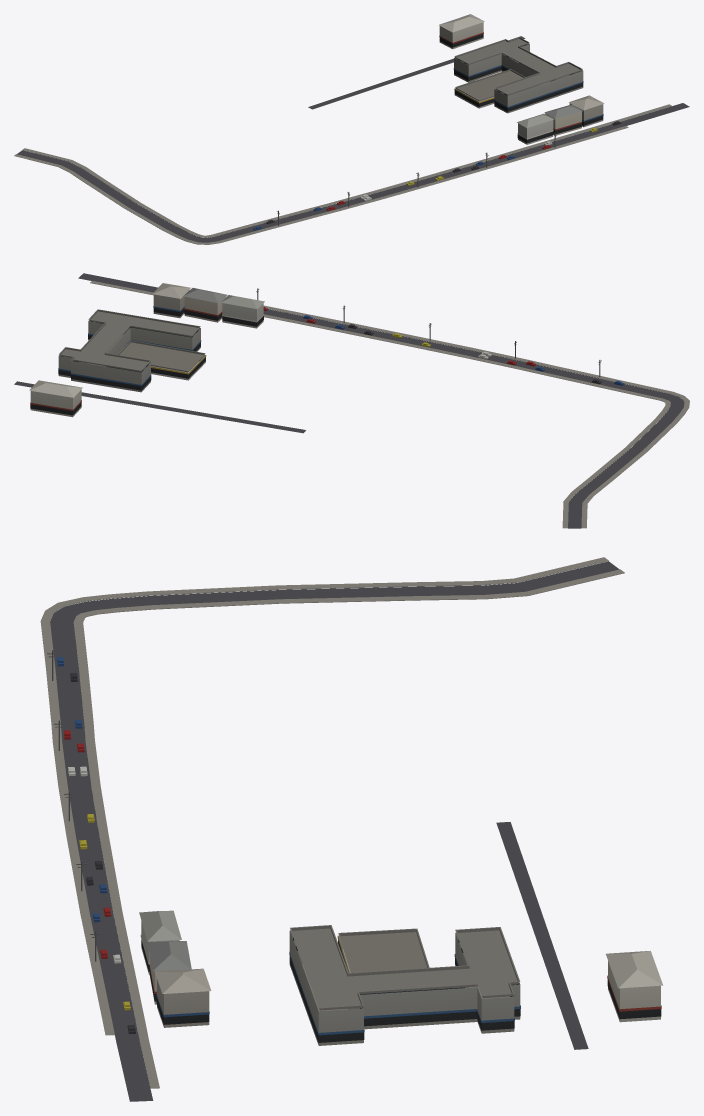
3 views of the same model, one above another, from view 1: azimuth 30°, elevation 25°; view 2: azimuth 150°, elevation 25°; view 3: azimuth 270°, elevation 25° (orthographic). The views are drawn at different scales.
Parts seen in each view (by area): view 1: Buildings__r-18c-12-col, Roads_Minor__r-18c-12, Sidewalks__r-18c-12-col, Windows__r-18c-12, Props_Solid__r-18c-12-col; view 2: Buildings__r-18c-12-col, Roads_Minor__r-18c-12, Sidewalks__r-18c-12-col, Windows__r-18c-12, Props_Solid__r-18c-12-col; view 3: Buildings__r-18c-12-col, Roads_Minor__r-18c-12, Sidewalks__r-18c-12-col, Windows__r-18c-12, Props_Solid__r-18c-12-col.
Part boxes in pixels (<box>): Buildings__r-18c-12-col: <box>439,14,604,144</box>; Roads_Minor__r-18c-12: <box>17,36,689,242</box>; Sidewalks__r-18c-12-col: <box>14,104,671,244</box>; Windows__r-18c-12: <box>439,32,603,143</box>; Props_Solid__r-18c-12-col: <box>253,121,621,230</box>; Buildings__r-18c-12-col: <box>29,283,264,417</box>; Roads_Minor__r-18c-12: <box>14,273,684,528</box>; Sidewalks__r-18c-12-col: <box>90,280,689,528</box>; Windows__r-18c-12: <box>30,306,263,415</box>; Props_Solid__r-18c-12-col: <box>257,288,624,385</box>; Buildings__r-18c-12-col: <box>139,910,663,1045</box>; Roads_Minor__r-18c-12: <box>50,561,619,1101</box>; Sidewalks__r-18c-12-col: <box>40,557,624,1088</box>; Windows__r-18c-12: <box>140,935,661,1042</box>; Props_Solid__r-18c-12-col: <box>52,650,135,1034</box>.
Size of the model in its own units: 356 by 13 by 172.
